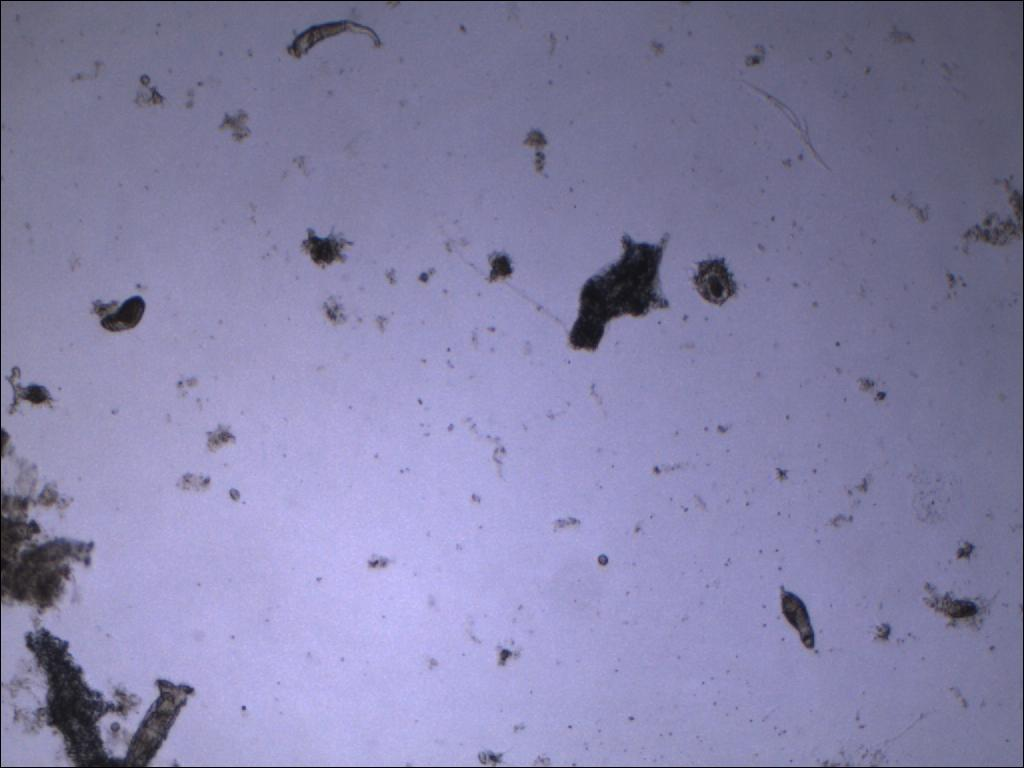amoeba: (562, 226, 684, 360), (17, 615, 123, 768)
